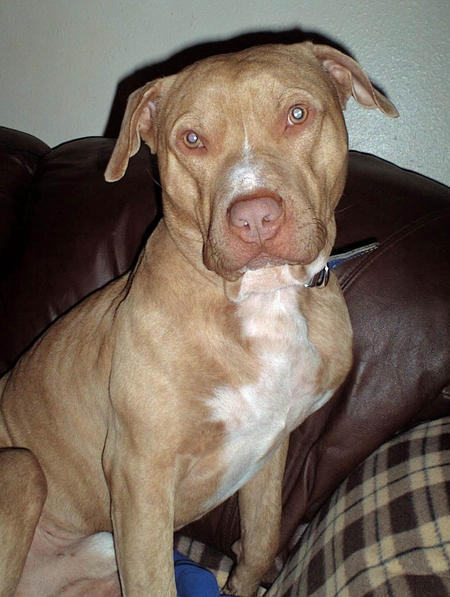am_pit_bull_terrier: (0, 41, 400, 597)
